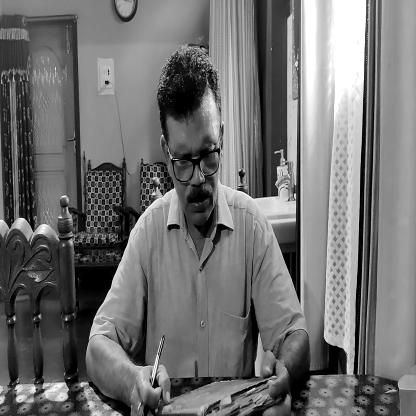Normal: (156, 50, 223, 223)
